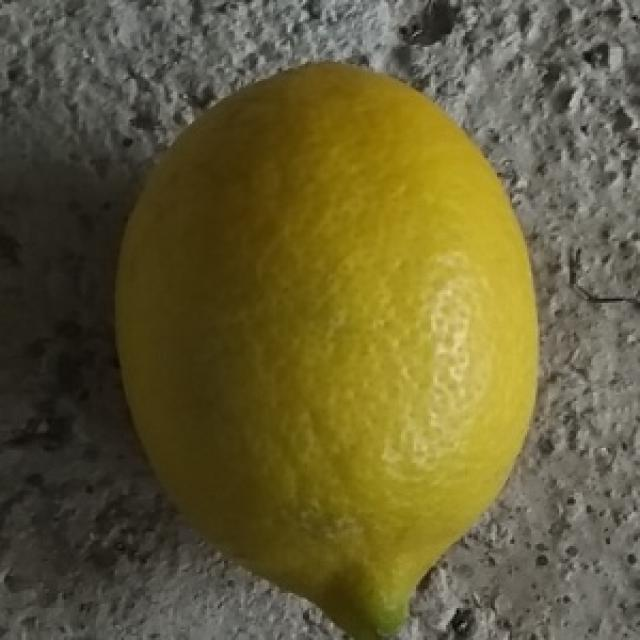Ripe: (105, 53, 546, 640)
